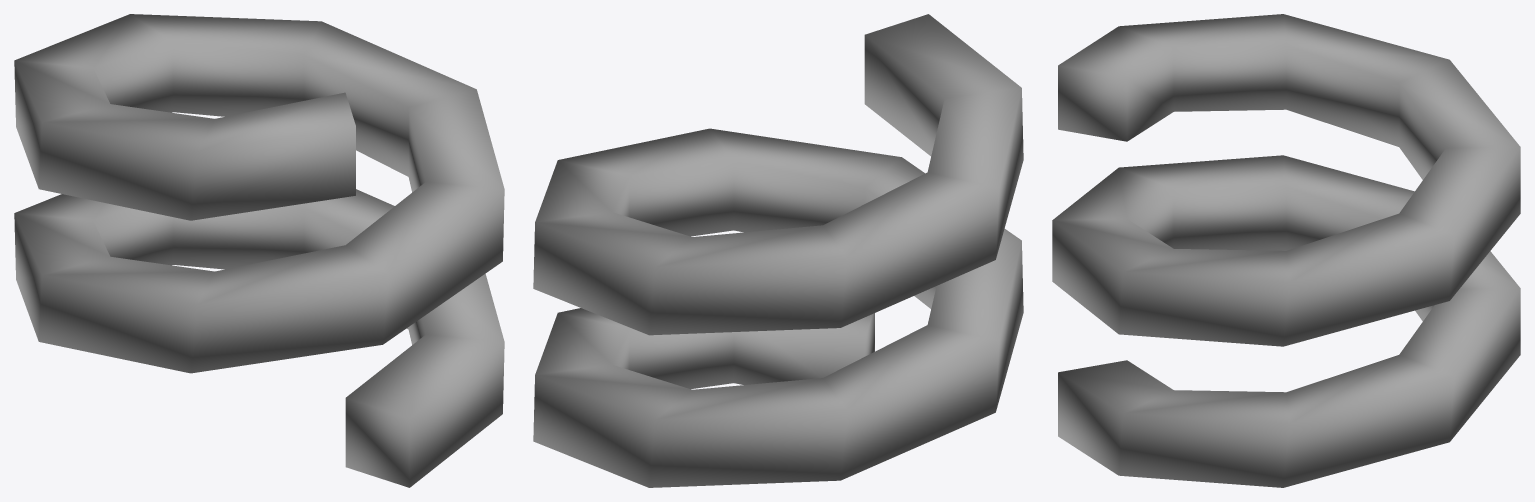
Rendered from SM_WigglerSpring.fbx.
The picture shows the model from 3 angles, left to right: view 1: azimuth 30°, elevation 25°; view 2: azimuth 150°, elevation 25°; view 3: azimuth 270°, elevation 25°; orthographic projection. The views are drawn at different scales.
Parts seen in each view (by area): view 1: WigglerSpring; view 2: WigglerSpring; view 3: WigglerSpring.
Boxes of the visible parts, x1,y1,x2,y2 form: WigglerSpring: (14, 14, 504, 487); WigglerSpring: (533, 14, 1023, 487); WigglerSpring: (1052, 14, 1520, 487).
Size of the model in its own units: 0.0939 by 0.0767 by 0.0939.
Materials: 1 (1 with a texture image).
